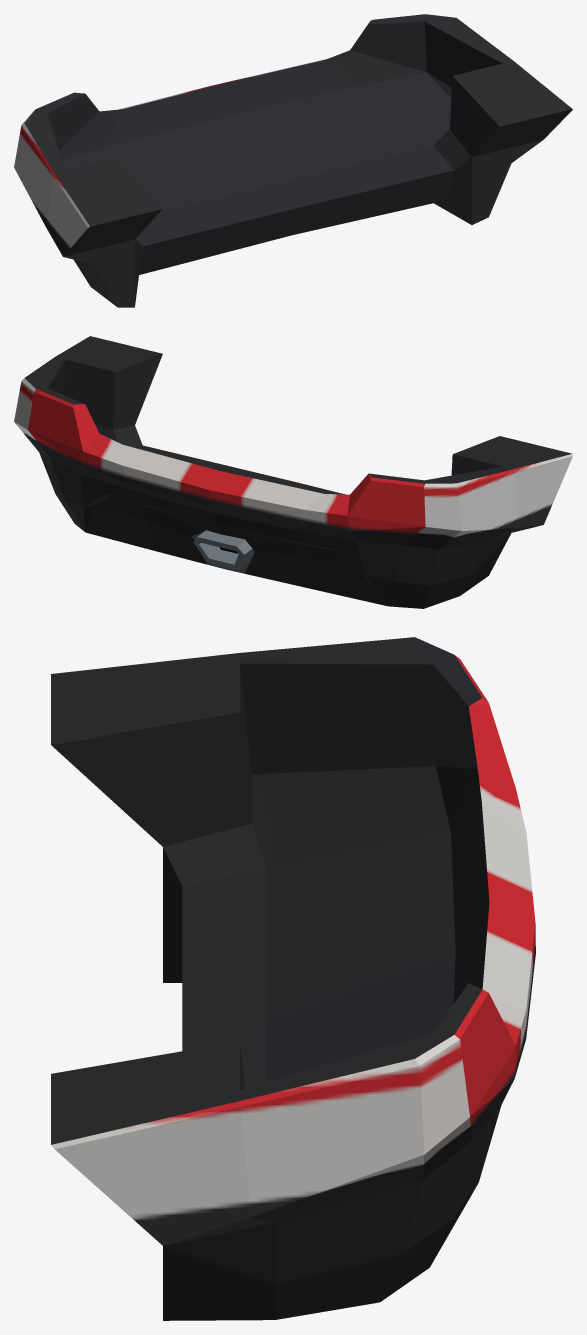
The model's file is SM_Veh_Rally_01_Rear_Bumper_03.fbx.
The picture shows the model from 3 angles, top to bottom: view 1: azimuth 30°, elevation 25°; view 2: azimuth 150°, elevation 25°; view 3: azimuth 270°, elevation 25°; orthographic projection. The views are drawn at different scales.
Parts seen in each view (by area): view 1: SM_Veh_Rally_01_Rear_Bumper_03; view 2: SM_Veh_Rally_01_Rear_Bumper_03; view 3: SM_Veh_Rally_01_Rear_Bumper_03.
Part boxes in pixels (x1=…): SM_Veh_Rally_01_Rear_Bumper_03: x1=14, y1=14, x2=572, y2=307; SM_Veh_Rally_01_Rear_Bumper_03: x1=14, y1=336, x2=572, y2=608; SM_Veh_Rally_01_Rear_Bumper_03: x1=51, y1=637, x2=535, y2=1320.
Size of the model in its own units: 200 by 59.7 by 86.4.
